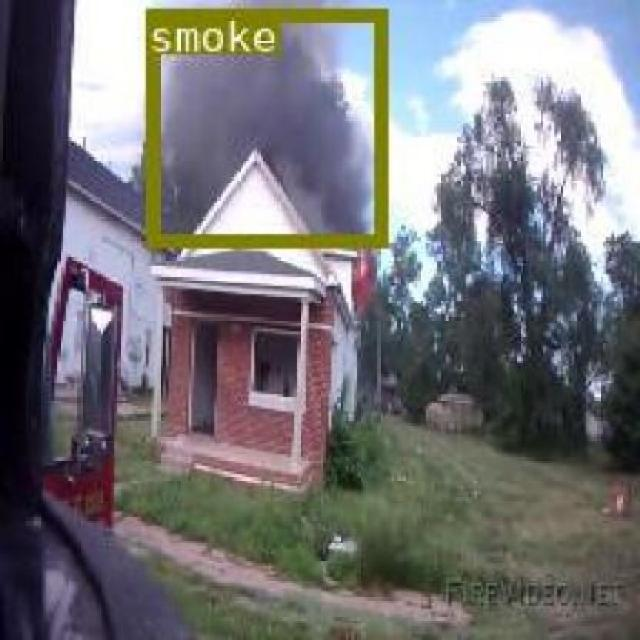Smoke: (144, 8, 386, 244)
